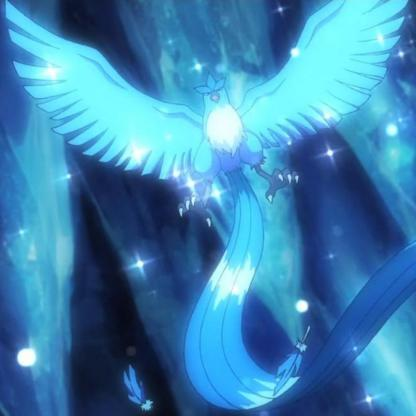Articuno: (29, 18, 416, 416)
